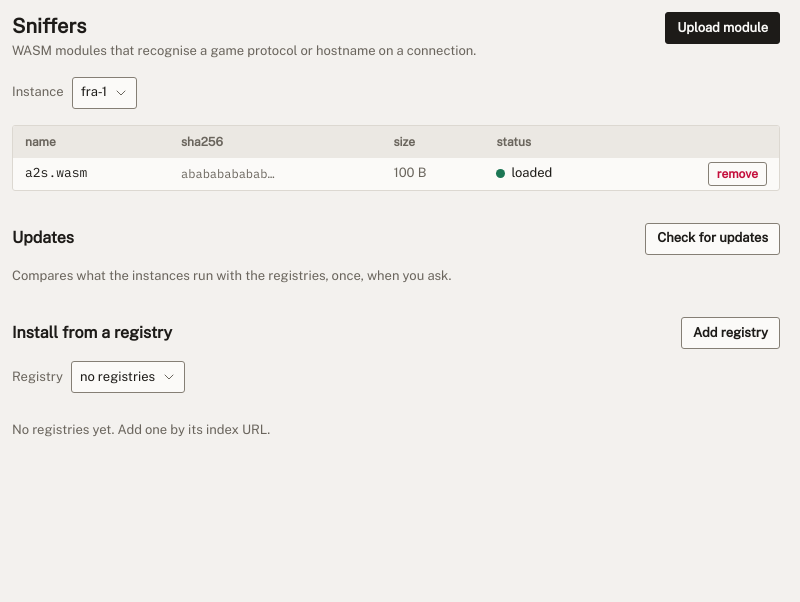
Test: SniffersPage updates and rollback › does not say up to date while a registry was unreachable
The width and height of the screenshot is (800, 602).
Click the button "Check for updates": (713, 239) [645,223,780,255]
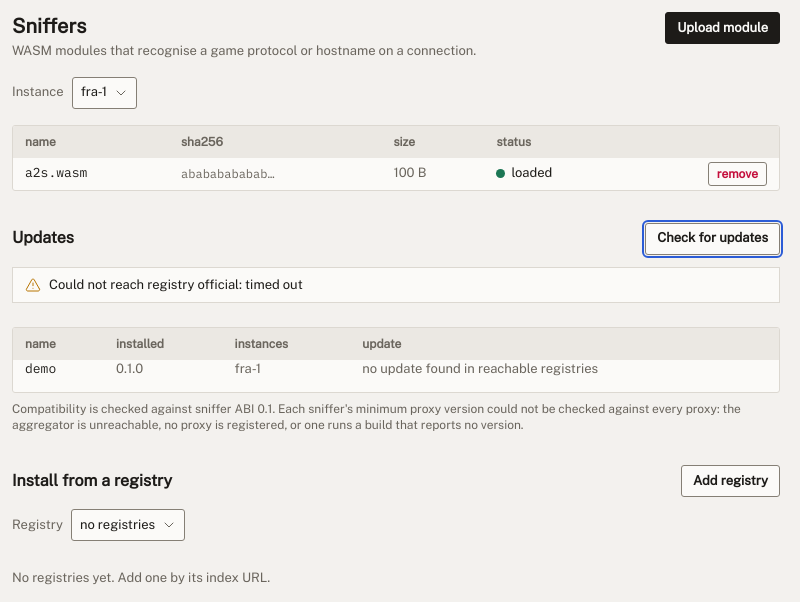
Check: the element "Updates" does not show "up to date", box [12,223,780,433]
Check: the element "Updates" shows "no update found in reachable registries", box [362,361,598,376]
